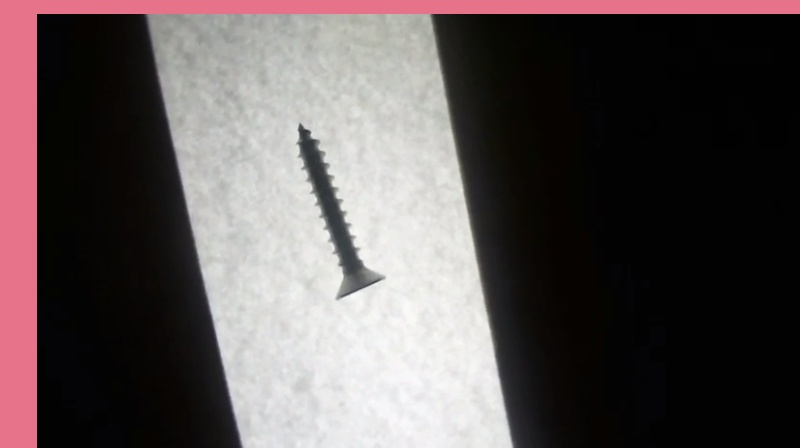S001: (293, 118, 386, 302)
